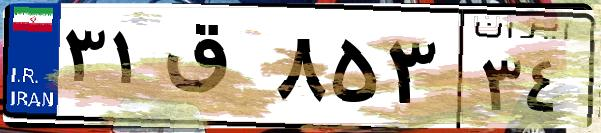1: (110, 28, 158, 98)
3: (385, 28, 445, 110), (57, 26, 110, 100), (475, 38, 525, 113)
4: (525, 38, 570, 115)
5: (330, 28, 385, 110)
8: (270, 28, 330, 110)
ق: (158, 20, 270, 120)
